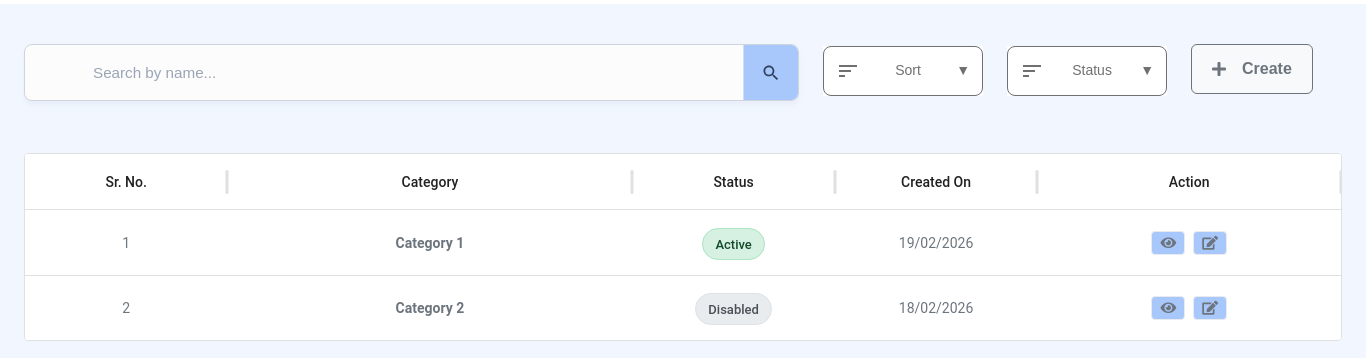
Scenario: Testing Organisation Action Item Categories › Filter the categories by status (All/Disabled)
Expected: the text "Category 1" is shown, [396,235,464,251]
// Filter by All
Click the button with test id "filter-toggle": point(1087, 70) [1007,46,1167,96]
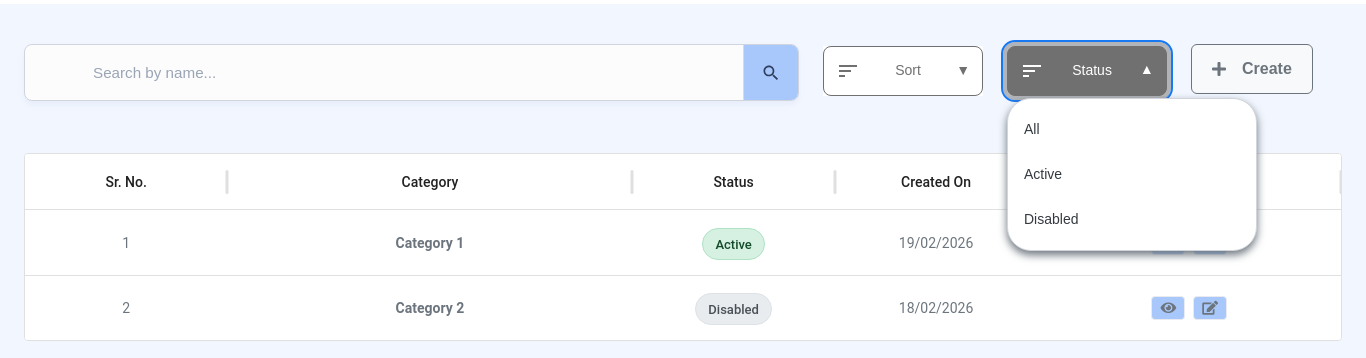
Expected: the option with test id "filter-item-all" is shown
Click the option with test id "filter-item-all": point(1032, 128) [1024,120,1040,136]
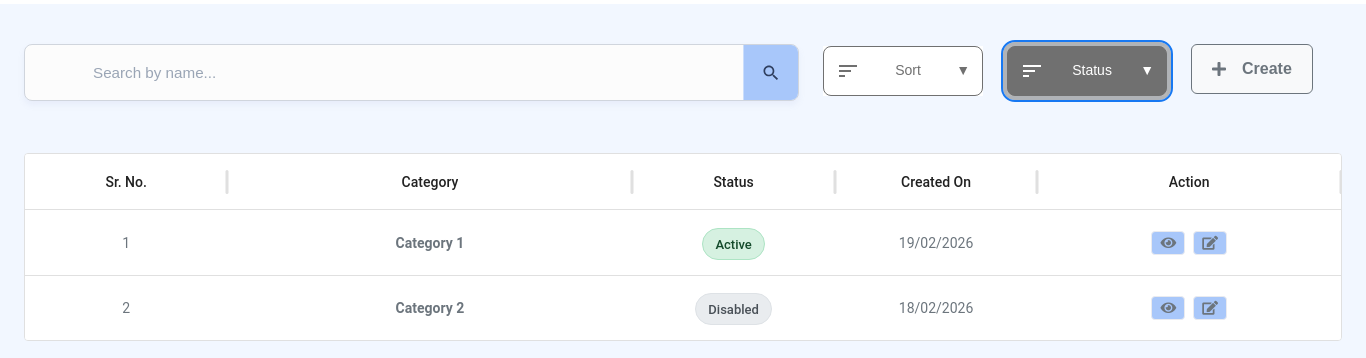
Expected: the text "Category 1" is shown, [396,235,464,251]
Expected: the text "Category 2" is shown, [396,300,464,316]
// Filter by Disabled
Click the button with test id "filter-toggle": point(1087, 70) [1007,46,1167,96]
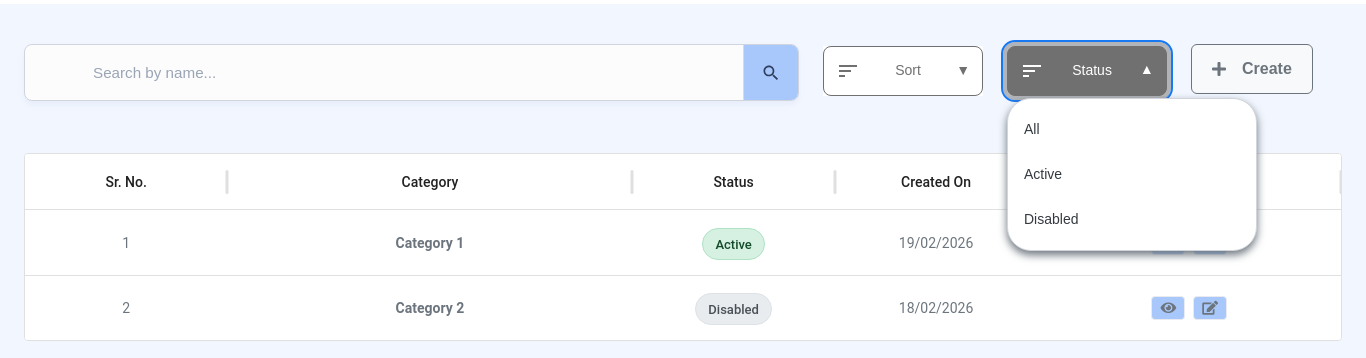
Expected: the option with test id "filter-item-disabled" is shown
Click the option with test id "filter-item-disabled": point(1051, 218) [1024,210,1078,226]
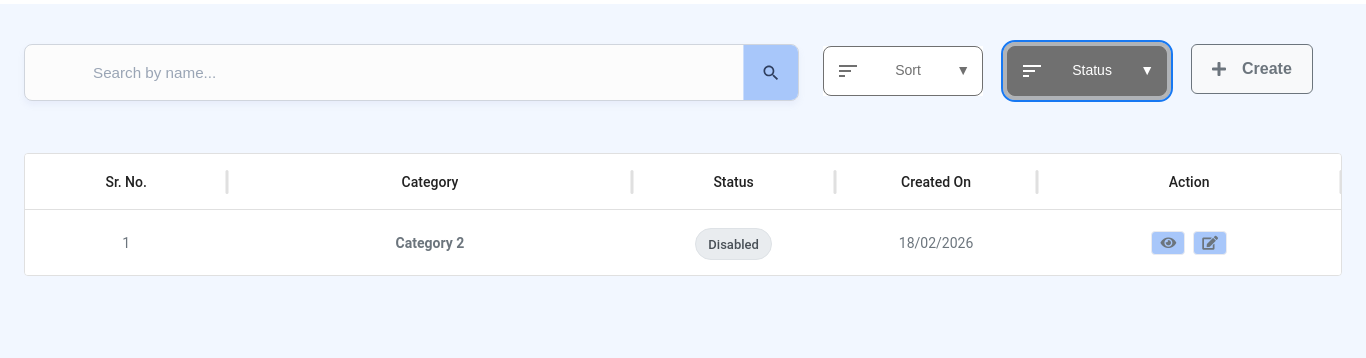
Expected: the text "Category 2" is shown, [396,235,464,251]
Expected: the text "Category 1" is gone
Expected: the number of messages with test id "statusChip" is 1, [695,228,772,260]
